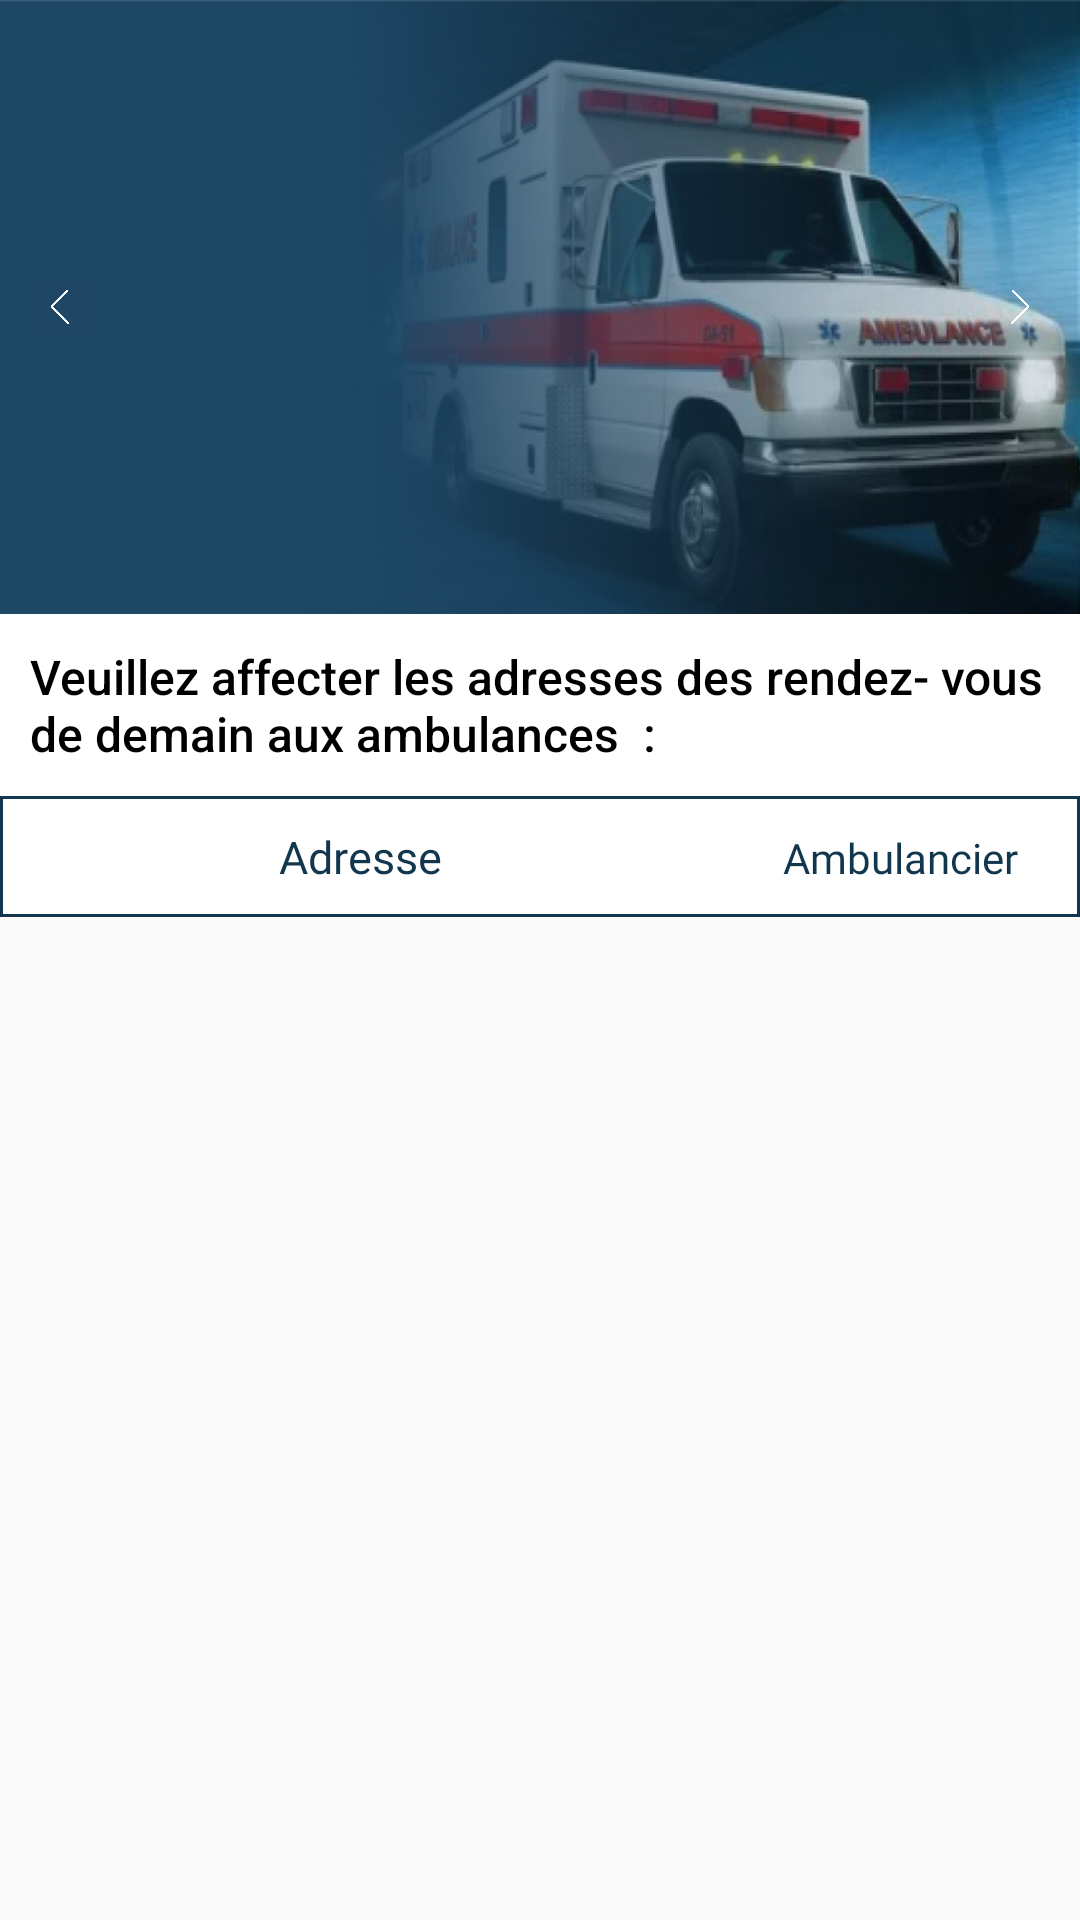

Icons on this 1080w x 1920h Android screen, each with the point to tap as [x,y]:
leftarrow: [60,307]
